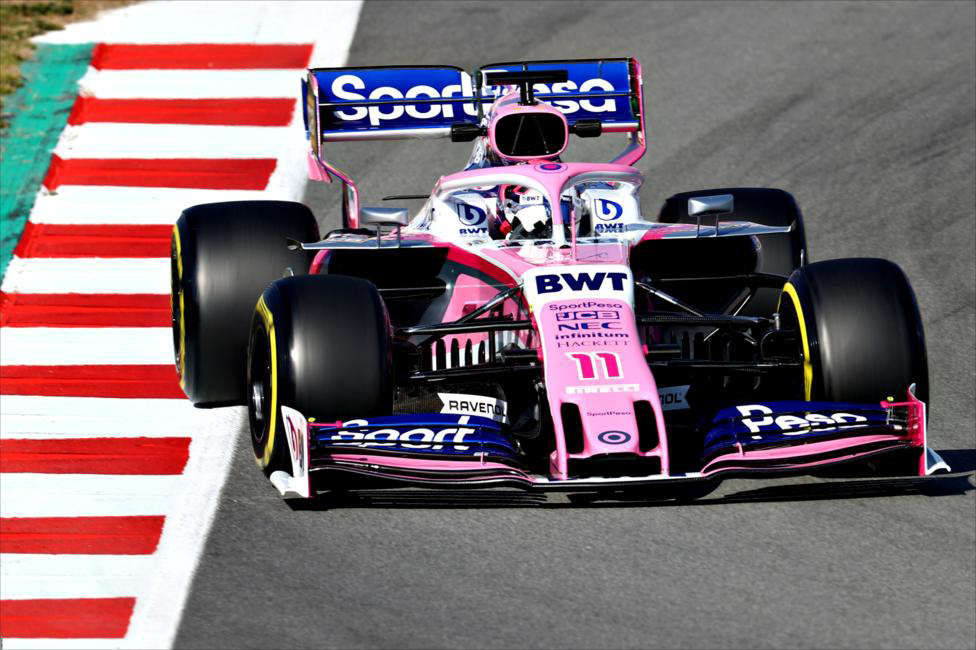F1 Car: (162, 53, 954, 514)
